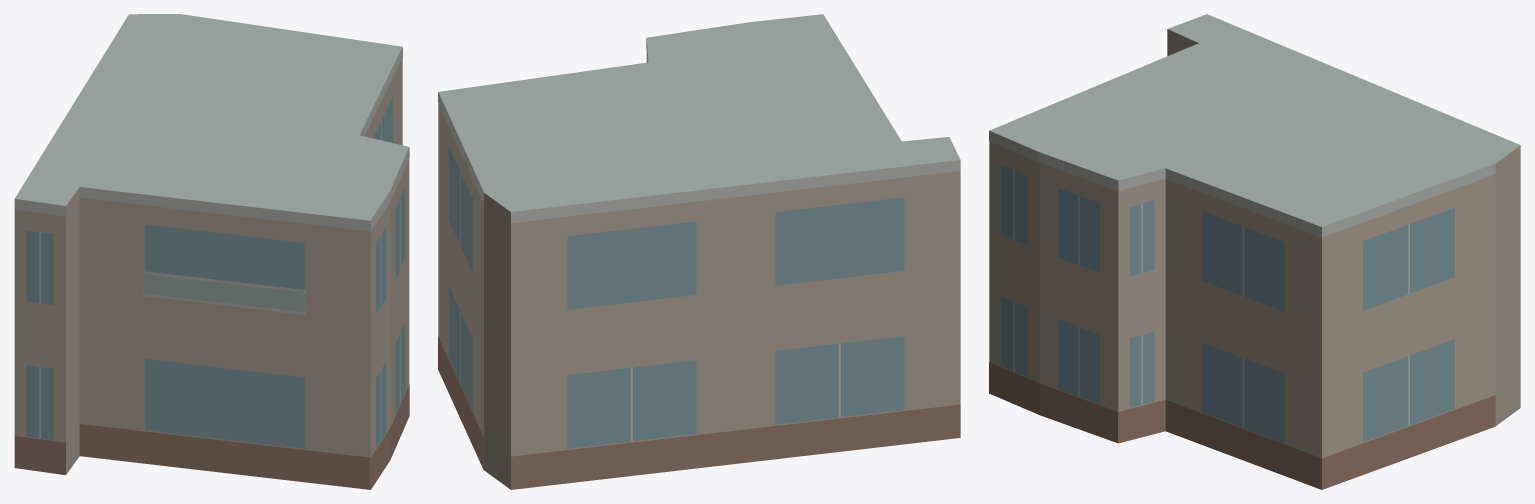
The model's file is survey-upis-32462332.glb.
The picture shows the model from 3 angles, left to right: view 1: azimuth 30°, elevation 25°; view 2: azimuth 150°, elevation 25°; view 3: azimuth 270°, elevation 25°; orthographic projection. The views are drawn at different scales.
Parts seen in each view (by area): view 1: survey-upis-32462332.tmp; view 2: survey-upis-32462332.tmp; view 3: survey-upis-32462332.tmp.
Boxes of the visible parts, bbox=[...] form: survey-upis-32462332.tmp: bbox=[14, 14, 409, 489]; survey-upis-32462332.tmp: bbox=[438, 14, 960, 489]; survey-upis-32462332.tmp: bbox=[989, 14, 1520, 489].
Bounding box in the file's own units: 10.62 × 6.1 × 11.19.
